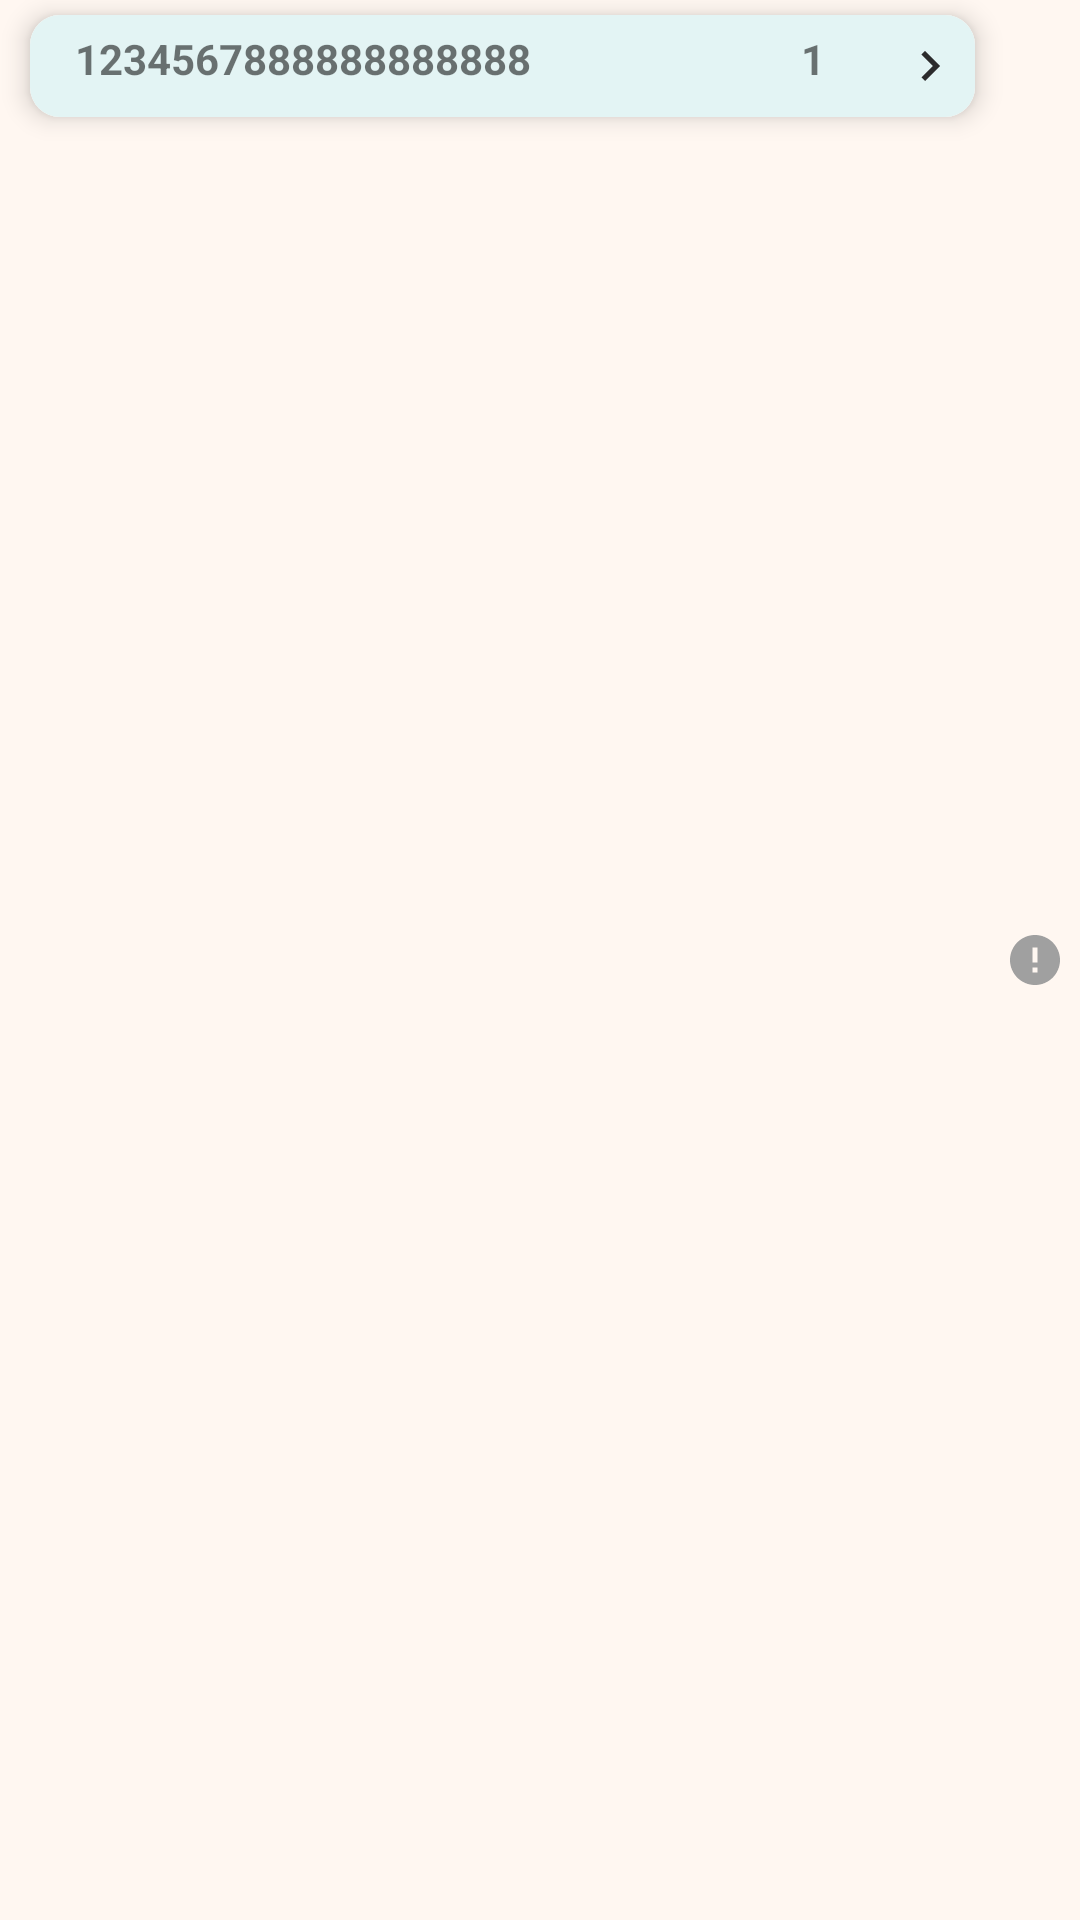

Icons on this 1080 × 1920 Android screen, each with its box as (x1, y1, x2, y2):
error: (1010, 935, 1060, 985)
keyboard arrow right: (921, 51, 940, 81)
